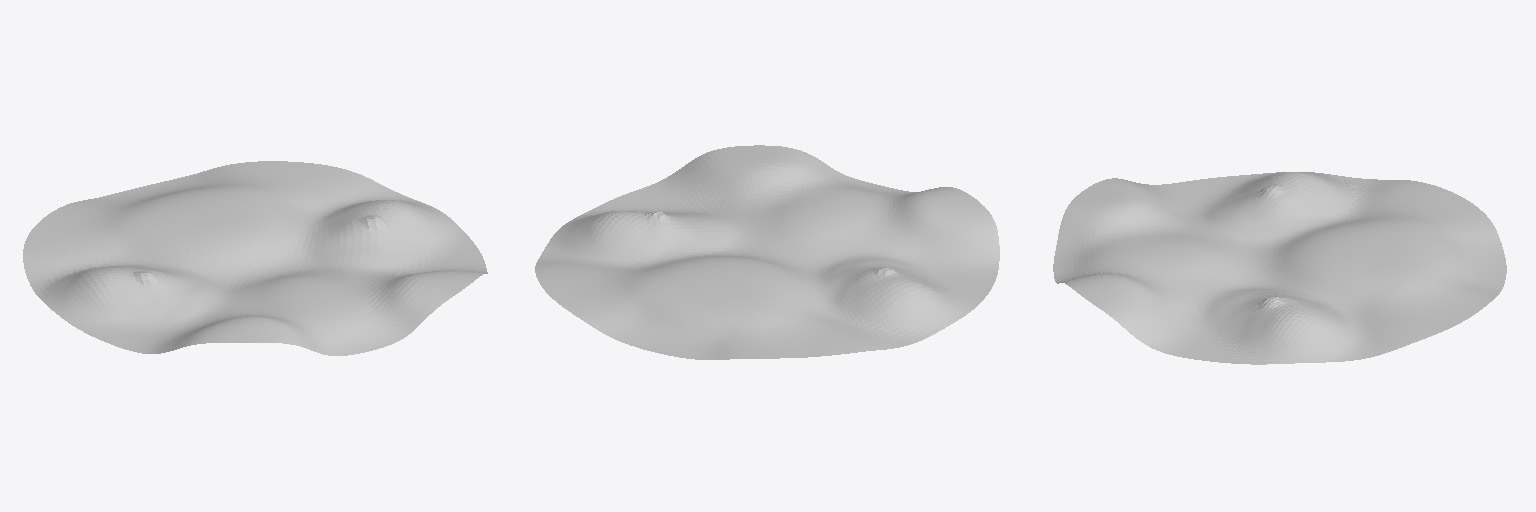
File: bumpyArena.obj
The picture shows the model from 3 angles: view 1: azimuth 30°, elevation 25°; view 2: azimuth 150°, elevation 25°; view 3: azimuth 270°, elevation 25°; orthographic projection.
Parts seen in each view (by area): view 1: Plane; view 2: Plane; view 3: Plane.
Part boxes in pixels (bbox=[...]): Plane: bbox=[23, 161, 487, 355]; Plane: bbox=[535, 145, 999, 359]; Plane: bbox=[1053, 172, 1506, 364].
Bounding box in the file's own units: 6.07 × 0.4097 × 6.06.